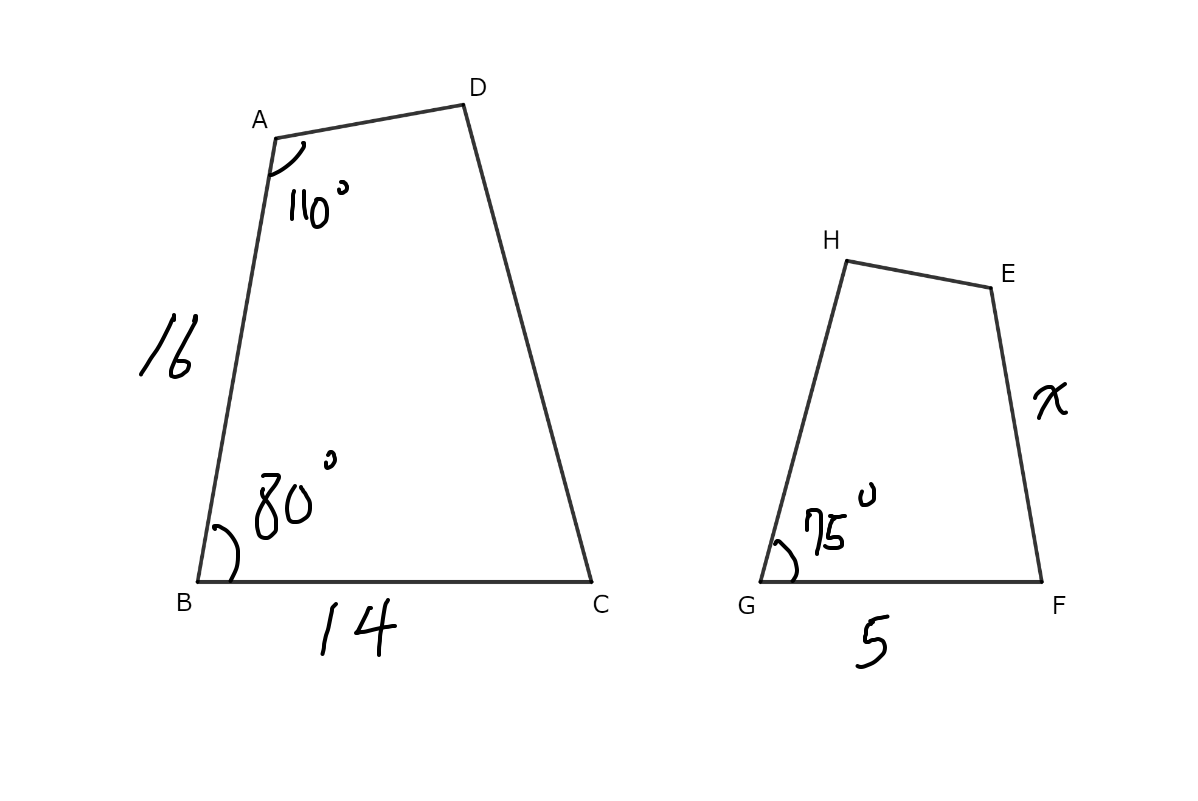Angle_Scurve: (206, 518, 246, 581), (261, 135, 314, 182), (773, 535, 804, 582)
